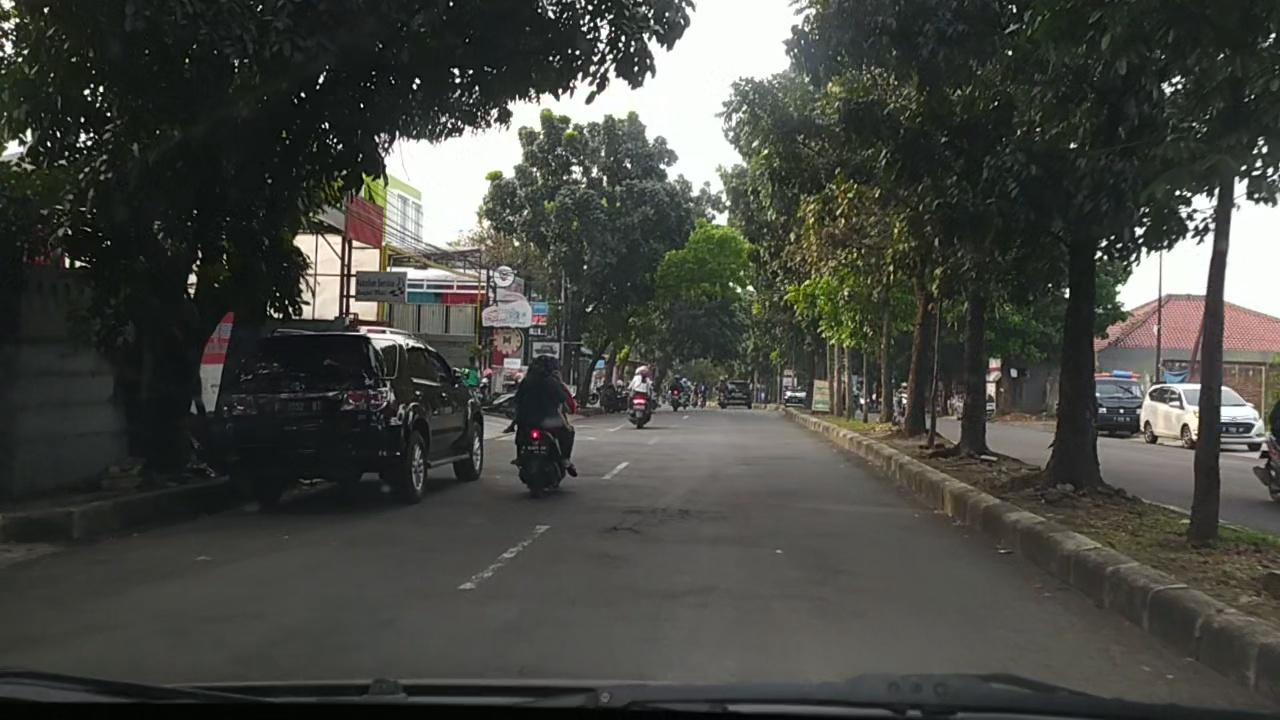pothole: (607, 524, 641, 537)
